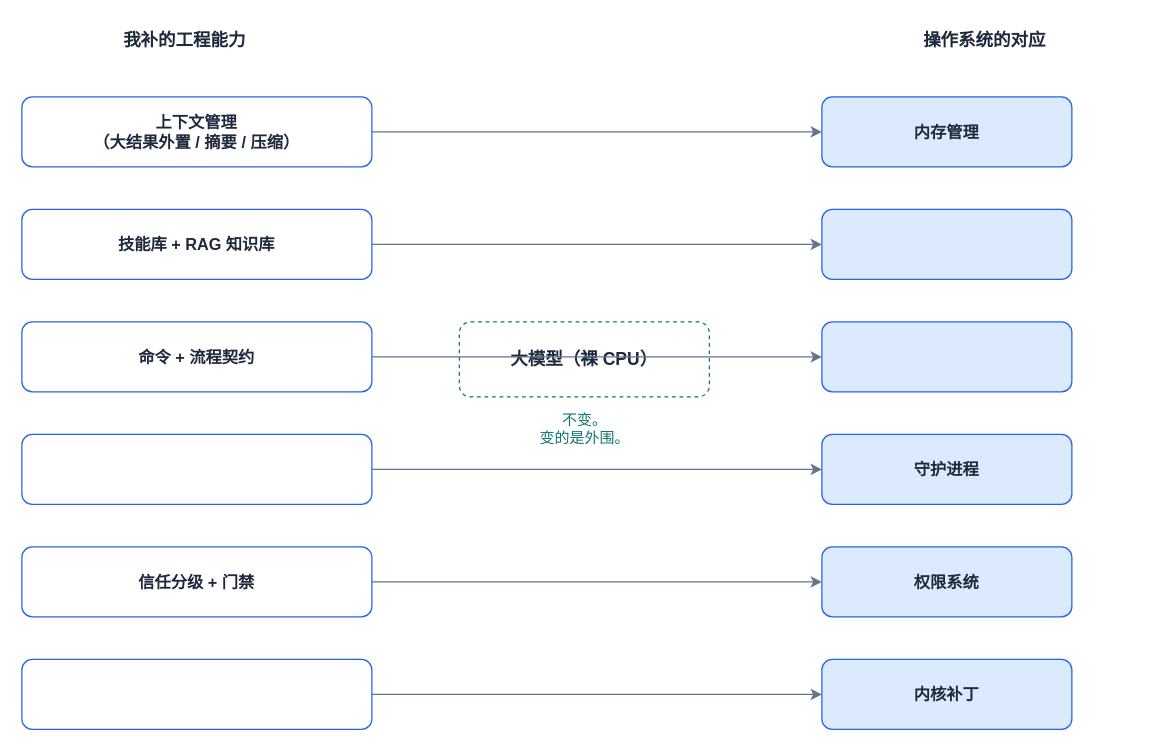
Some shapes in this 1169 by 751 pixel diagram are drawn without their labels. Each missing label, with the centre of its shape:
事故即规范: (x=196, y=693)
夜间巡检 daemon: (x=196, y=468)
文件系统: (x=946, y=243)
进程调度 + 系统调用: (x=946, y=356)
